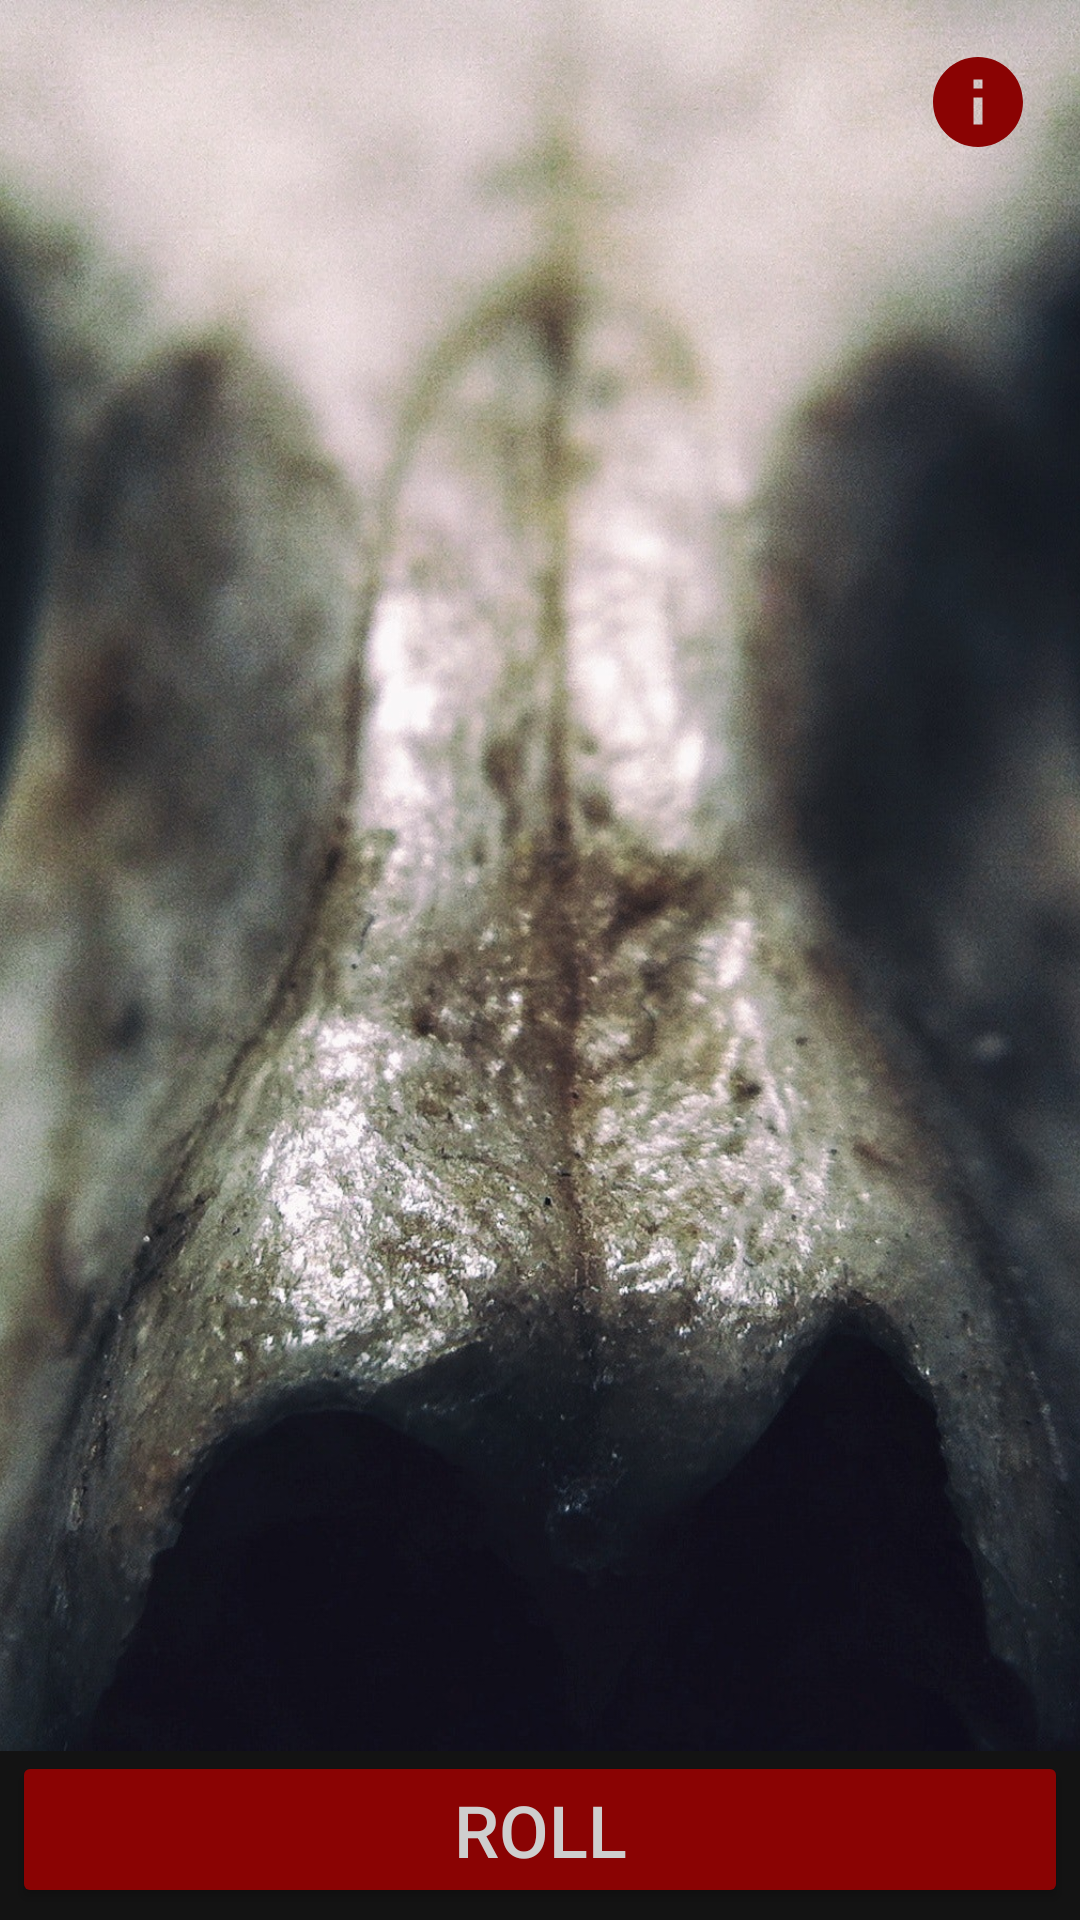

Icon bounding boxes for this 1080 × 1920 phone screenshot, format (x1, y1, x2, y2):
info: (928, 57, 1031, 155)
